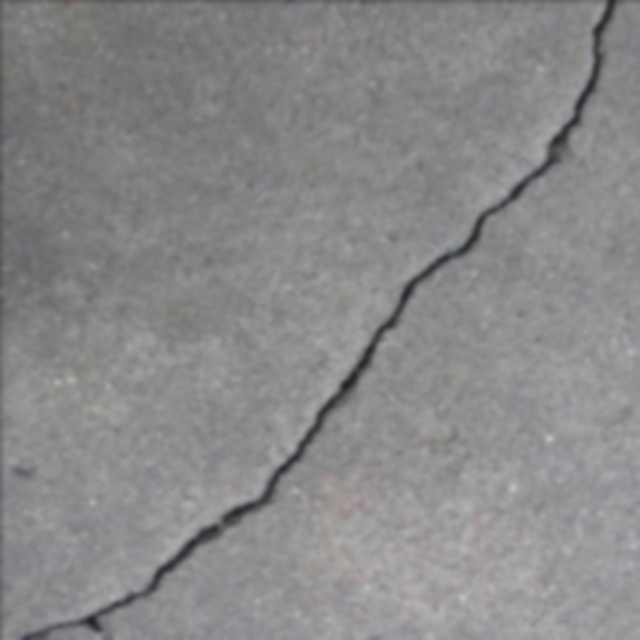SurfaceCrack: (24, 0, 624, 640)
